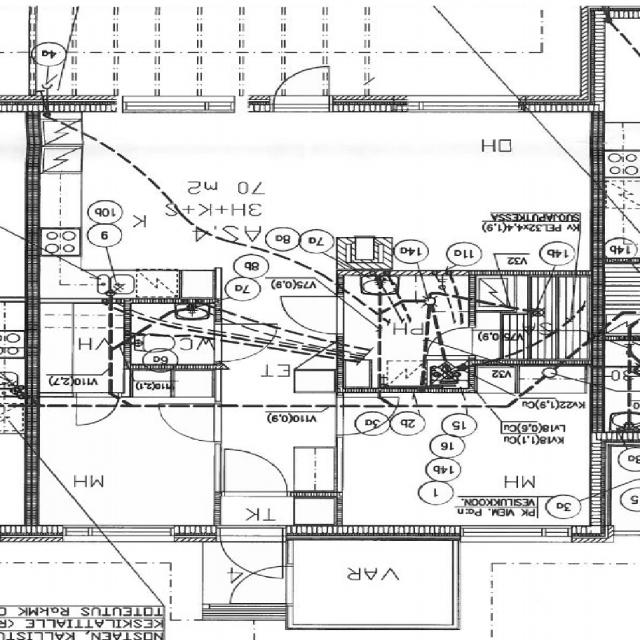door: (224, 525, 282, 582), (274, 59, 329, 112), (226, 450, 286, 496), (229, 566, 294, 604), (280, 296, 344, 333), (214, 324, 275, 362), (159, 404, 221, 441), (335, 398, 398, 434), (426, 327, 475, 356), (76, 393, 118, 425)
